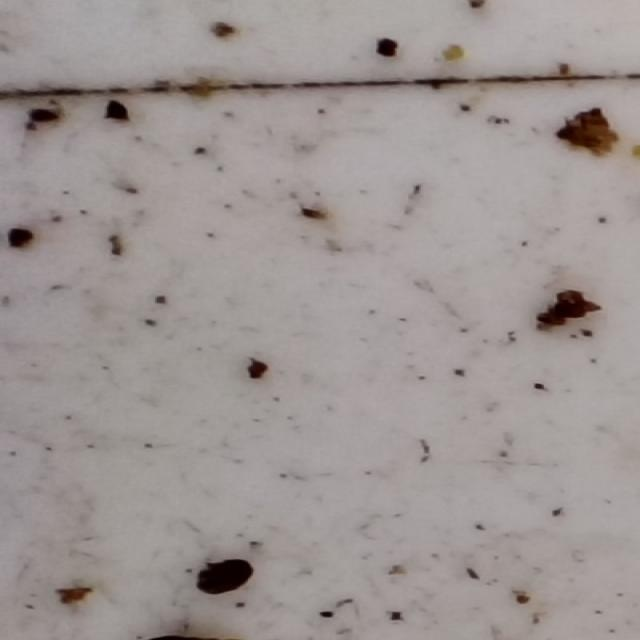varroa: (194, 557, 257, 598)
